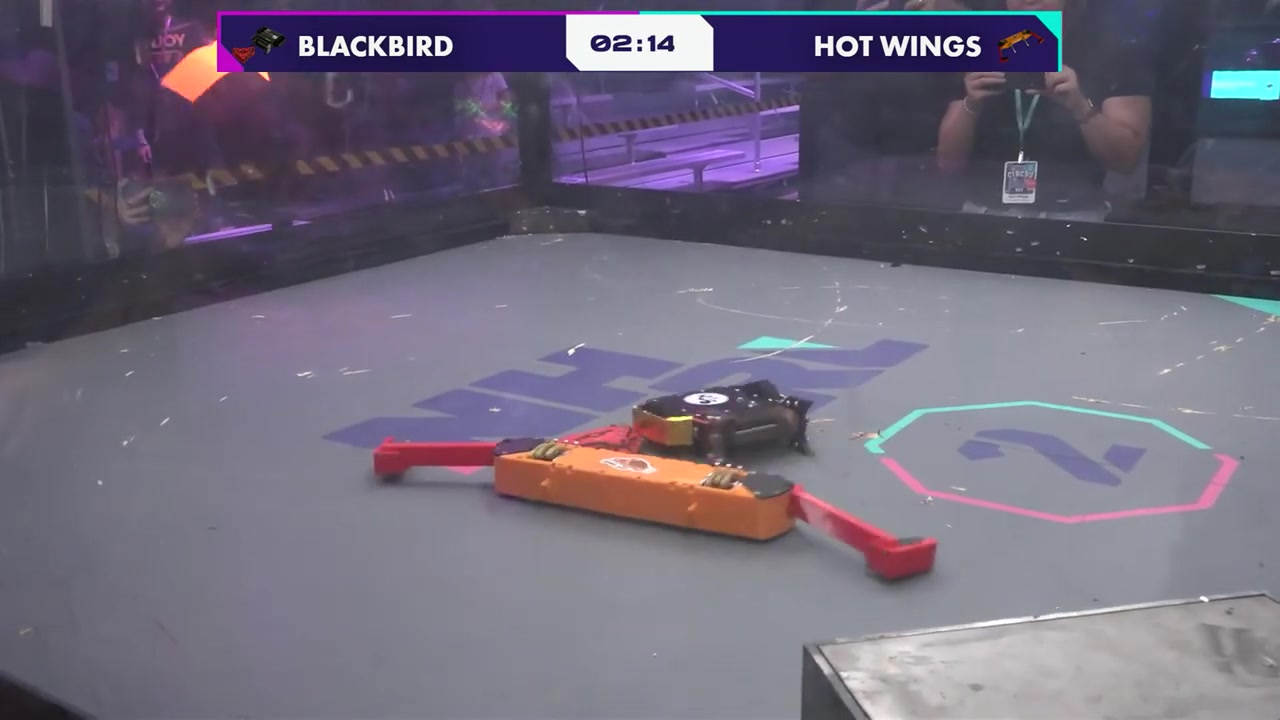combatbot: (372, 424, 937, 583), (635, 376, 829, 465)
housebot: (802, 588, 1280, 720)
